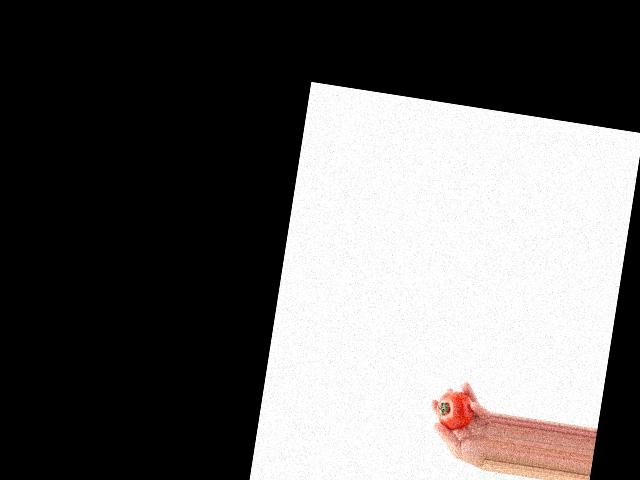tomato: (434, 388, 476, 432)
